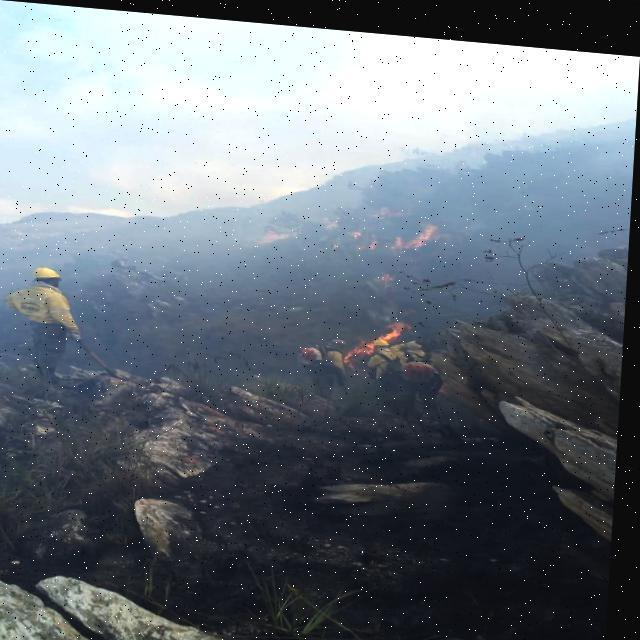Fire: (351, 315, 406, 357), (386, 214, 442, 247)
